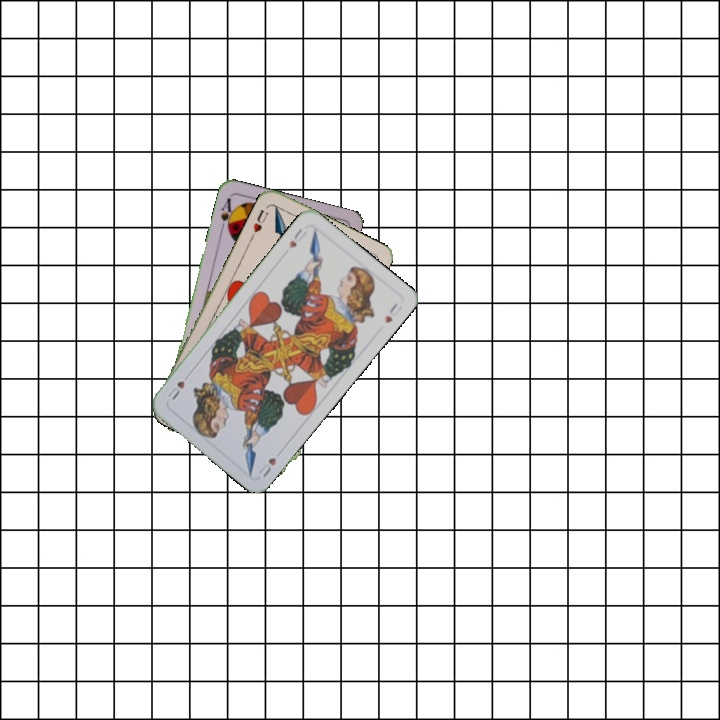HU: (247, 205, 271, 240), (254, 454, 279, 480), (285, 224, 309, 251)
SA: (216, 194, 237, 234)
